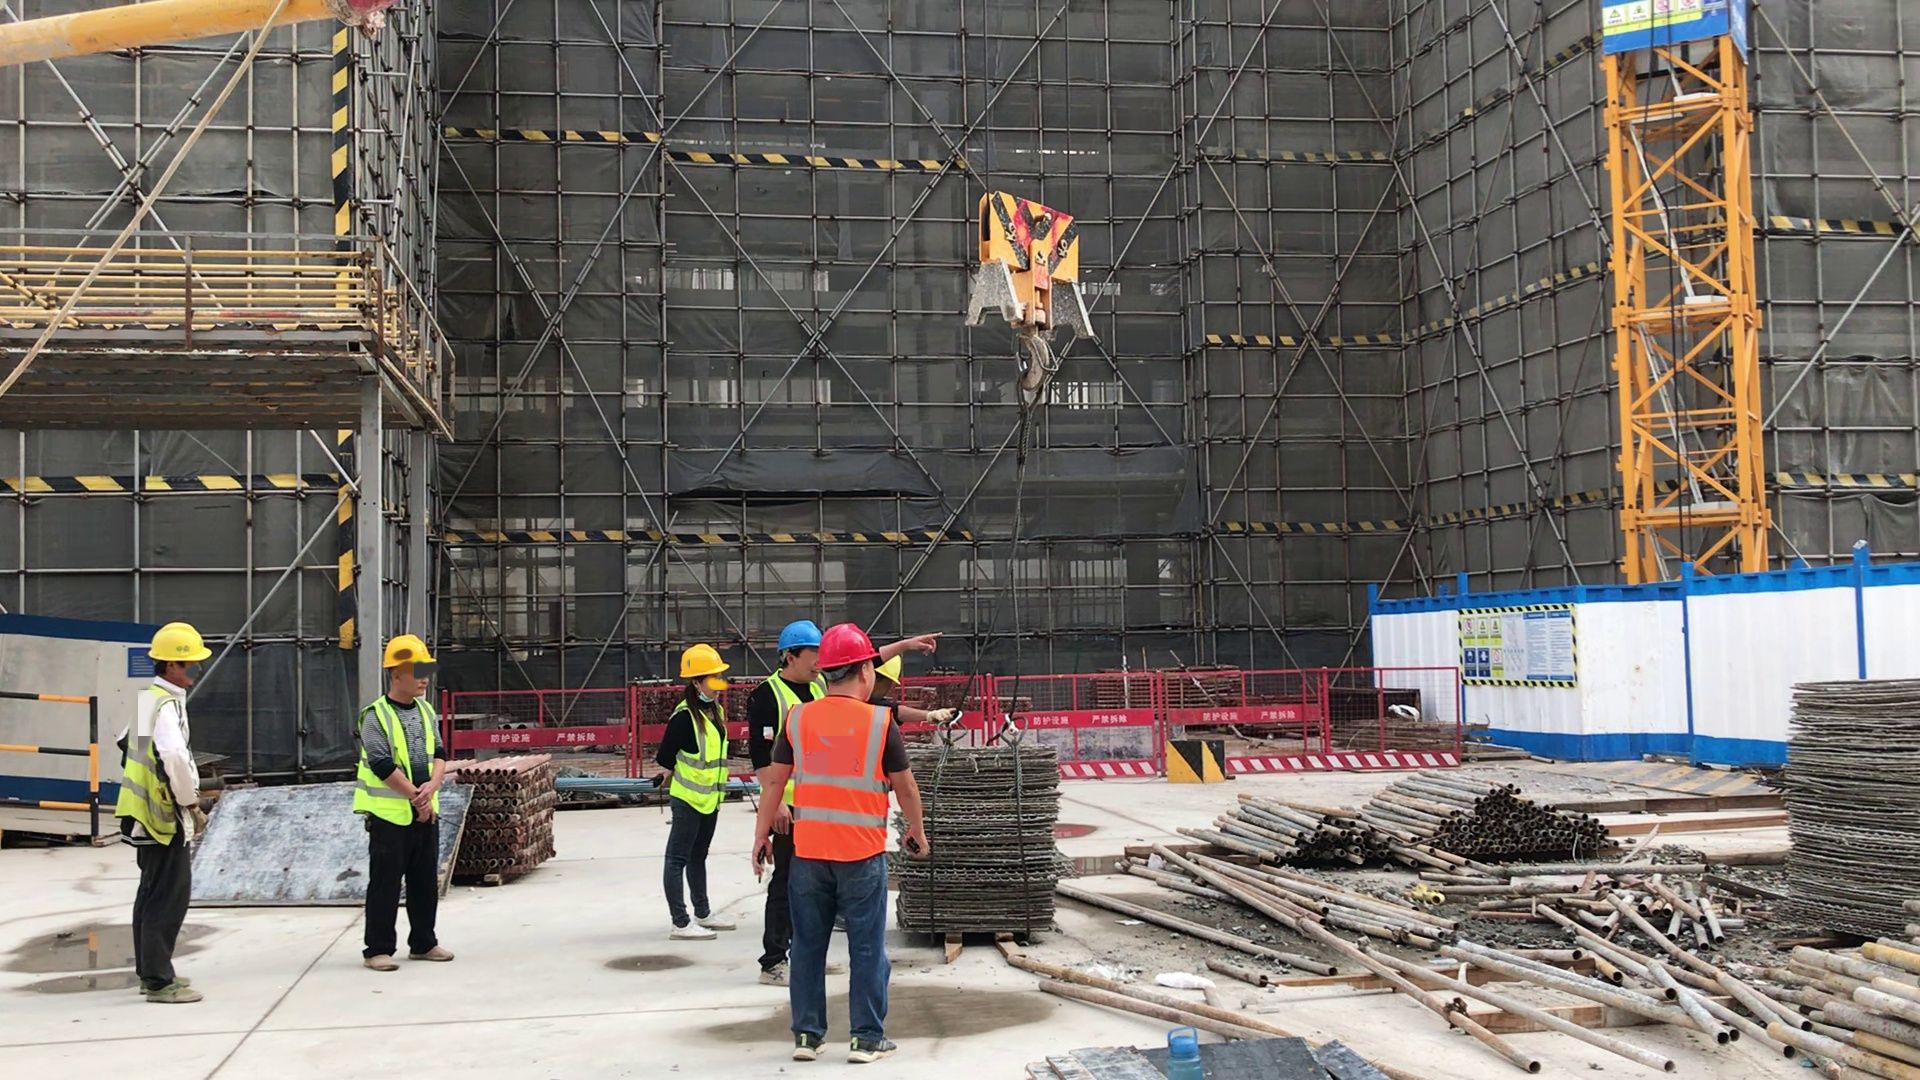fence: (1227, 664, 1464, 772), (3, 681, 103, 828), (1072, 669, 1171, 782), (561, 684, 641, 781)
helmet: (140, 623, 212, 665), (823, 622, 880, 672), (378, 634, 433, 672), (674, 646, 732, 682), (773, 622, 818, 653), (879, 655, 904, 687)
hook: (967, 187, 1104, 387)
person: (756, 628, 929, 1065), (347, 632, 463, 979), (112, 622, 212, 1011), (644, 643, 745, 946), (751, 620, 823, 712), (878, 655, 956, 726)
scaffold: (1752, 917, 1916, 1080), (1367, 765, 1628, 865), (1165, 793, 1395, 872), (465, 753, 559, 882)
slogan: (1456, 609, 1574, 680), (1604, 1, 1726, 49)
vest: (786, 702, 891, 868), (116, 686, 187, 850), (358, 693, 441, 827), (673, 695, 725, 816), (763, 669, 825, 702)
